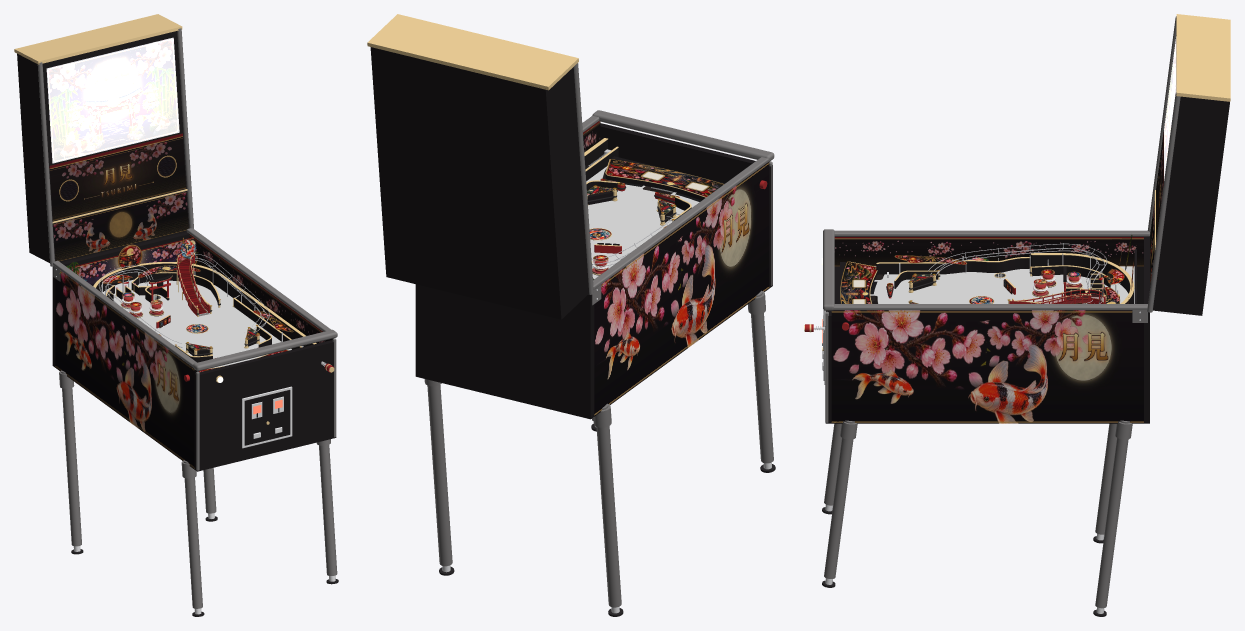
The model's file is table.glb.
3 renders of one model, left to right at view 1: azimuth 30°, elevation 25°; view 2: azimuth 150°, elevation 25°; view 3: azimuth 270°, elevation 25°, orthographic. The views are drawn at different scales.
Visible parts, largest first — view 1: cabinet_side_-1, backglass, cabinet_front, speakerpanel, backbox_body, playfield, neckpanel, backbox_trim, innerwall_1, leg.001, coindoor_panel, wall_outer (+15 smaller); view 2: backbox_body, cabinet_side_-1, cabinet_back, backbox_trim, cabinet_front, playfield, leg.001, leg.003, leg, lockdown, siderail_-1, apron (+2 smaller); view 3: cabinet_side_1, backbox_body, innerwall_-1, playfield, backbox_trim, siderail_-1, siderail_1, leg.003, leg.002, wall_fillL, backbox, apron (+7 smaller).
Boxes of the visible parts, bbox=[...] form: cabinet_side_-1: bbox=[55, 271, 199, 469]; backglass: bbox=[46, 37, 179, 163]; cabinet_front: bbox=[194, 340, 336, 471]; speakerpanel: bbox=[49, 133, 186, 220]; backbox_body: bbox=[17, 31, 189, 262]; playfield: bbox=[103, 279, 291, 368]; neckpanel: bbox=[53, 191, 188, 261]; backbox_trim: bbox=[14, 14, 182, 64]; innerwall_1: bbox=[189, 234, 328, 343]; leg.001: bbox=[61, 370, 81, 546]; coindoor_panel: bbox=[244, 390, 290, 445]; wall_outer: bbox=[96, 263, 313, 346]; backbox_body: bbox=[370, 47, 589, 319]; cabinet_side_-1: bbox=[594, 162, 769, 416]; cabinet_back: bbox=[415, 284, 594, 419]; backbox_trim: bbox=[367, 14, 578, 90]; cabinet_front: bbox=[600, 123, 772, 288]; playfield: bbox=[586, 166, 699, 279]; leg.001: bbox=[596, 403, 621, 607]; leg.003: bbox=[427, 385, 452, 566]; leg: bbox=[751, 290, 773, 463]; lockdown: bbox=[592, 110, 774, 162]; siderail_-1: bbox=[593, 157, 768, 289]; apron: bbox=[606, 159, 723, 197]; cabinet_side_1: bbox=[831, 310, 1143, 423]; backbox_body: bbox=[1150, 35, 1229, 315]; innerwall_-1: bbox=[834, 237, 1143, 266]; playfield: bbox=[870, 266, 1134, 303]; backbox_trim: bbox=[1176, 14, 1230, 101]; siderail_-1: bbox=[834, 230, 1149, 236]; siderail_1: bbox=[833, 304, 1147, 310]; leg.003: bbox=[1095, 420, 1129, 608]; leg.002: bbox=[824, 420, 854, 578]; wall_fillL: bbox=[876, 258, 1030, 274]; backbox: bbox=[1147, 92, 1180, 312]; apron: bbox=[840, 261, 876, 303].
Size of the model in its own units: 0.615 by 1.87 by 1.38.
Materials: 52 (33 with a texture image).
